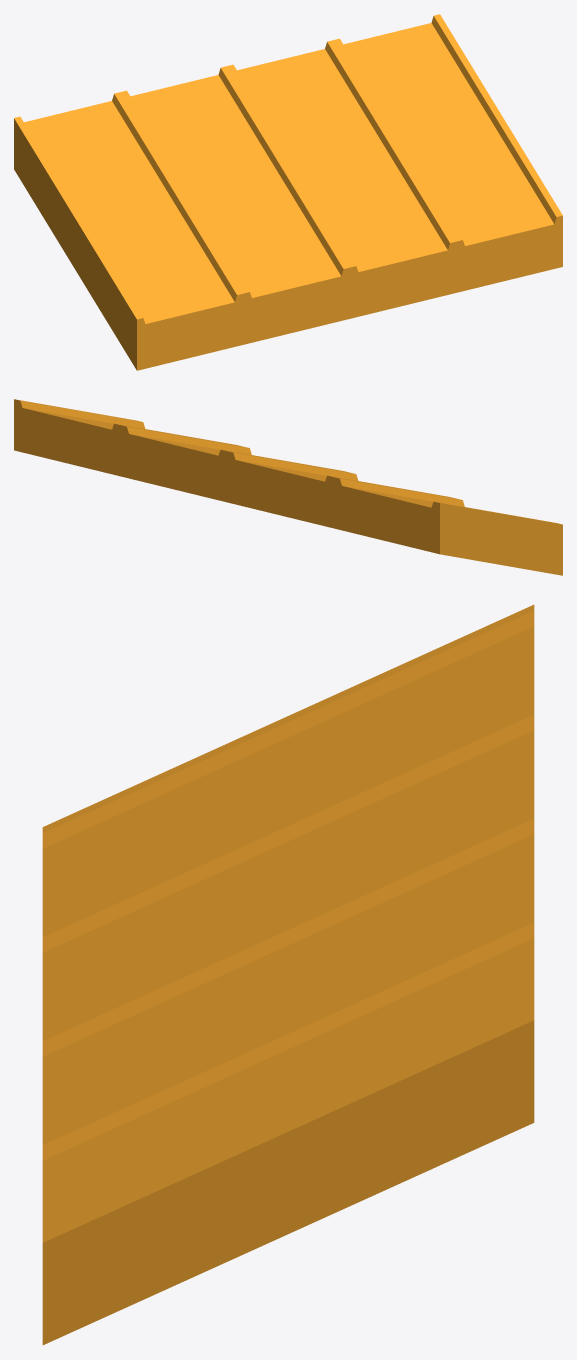
The model's file is SM_Roof_Metal_Moderate_2x1m.fbx.
The picture shows the model from 3 angles, top to bottom: view 1: azimuth 30°, elevation 25°; view 2: azimuth 150°, elevation 25°; view 3: azimuth 270°, elevation 25°; orthographic projection. The views are drawn at different scales.
Visible parts, largest first — view 1: roof-metal-moderate-2x1m; view 2: roof-metal-moderate-2x1m; view 3: roof-metal-moderate-2x1m.
Boxes of the visible parts, bbox=[...] form: roof-metal-moderate-2x1m: bbox=[14, 14, 562, 370]; roof-metal-moderate-2x1m: bbox=[14, 399, 562, 575]; roof-metal-moderate-2x1m: bbox=[42, 604, 534, 1345].
Size of the model in its own units: 2 by 0.7301 by 1.
